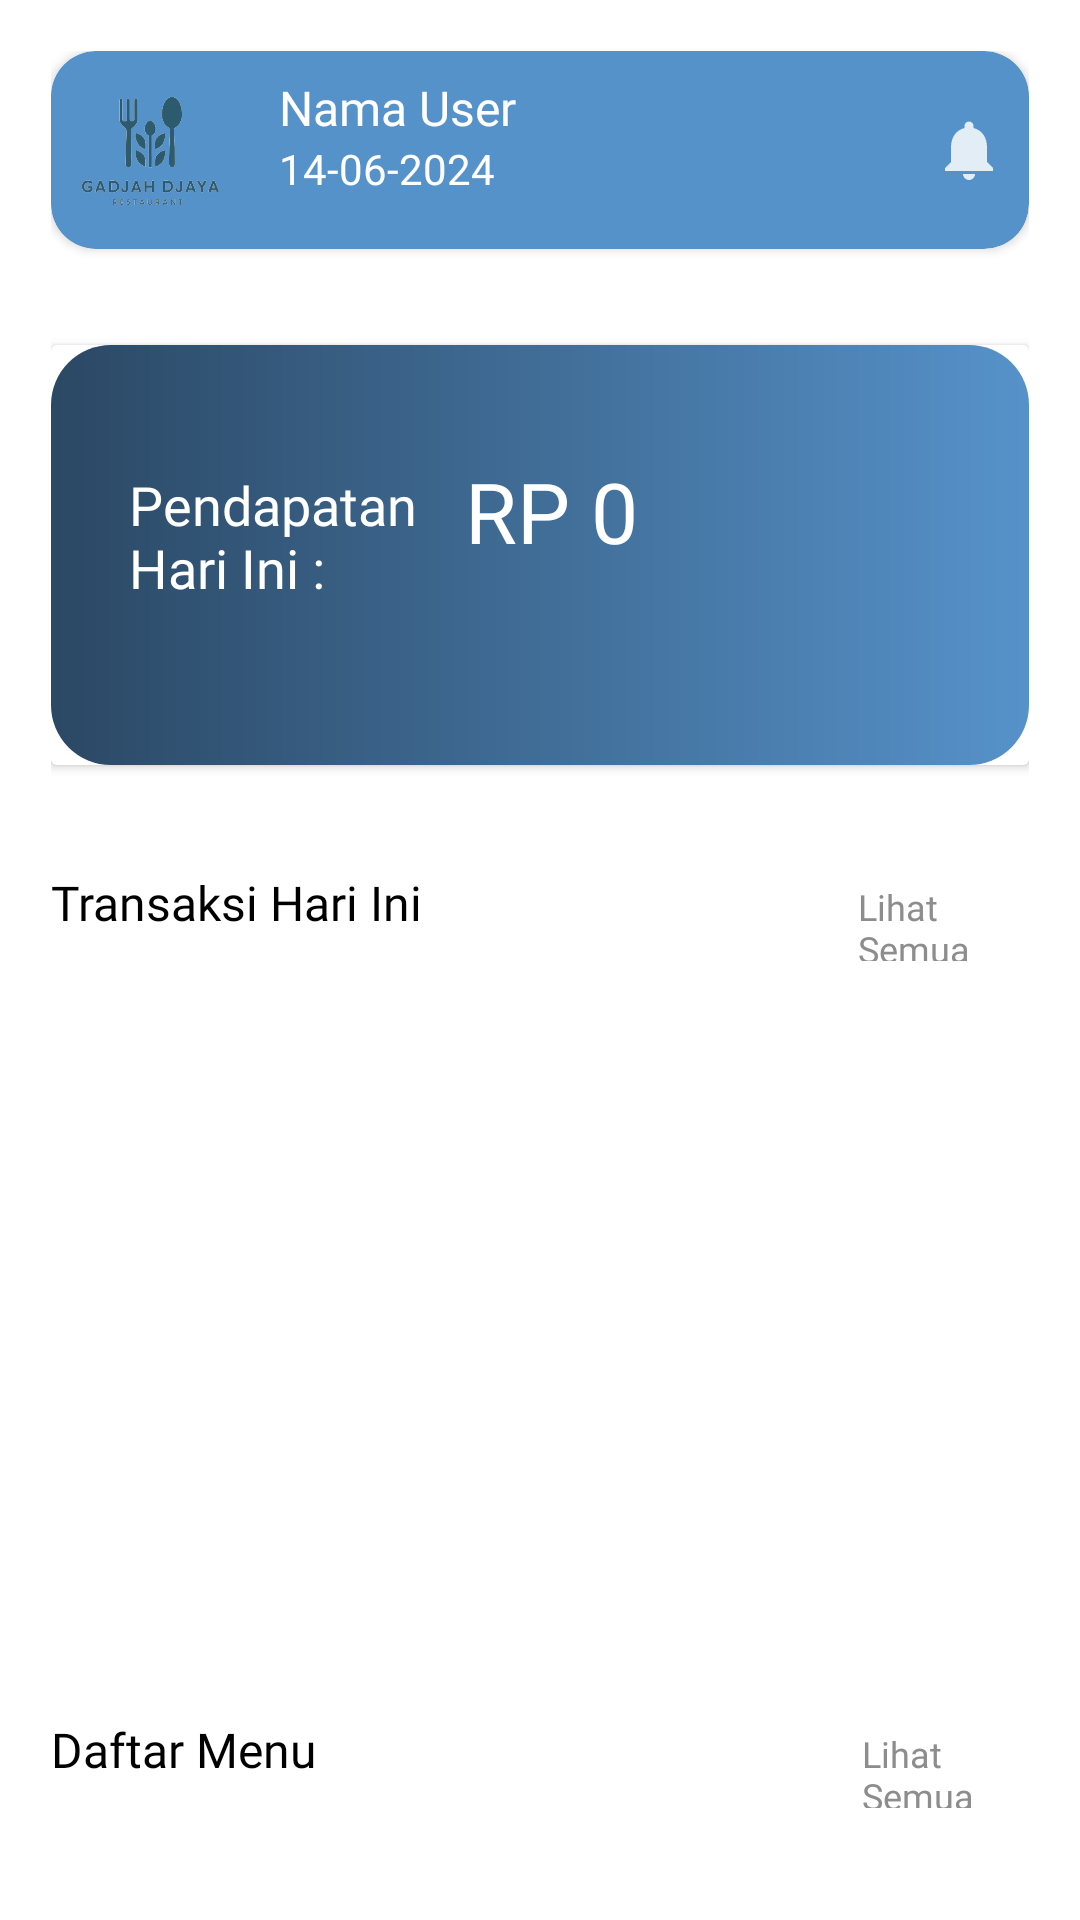

Where to tap for icons on this 1080×1920 app screen, as (x=x, y=y):
Notification Icon: (x=969, y=150)
